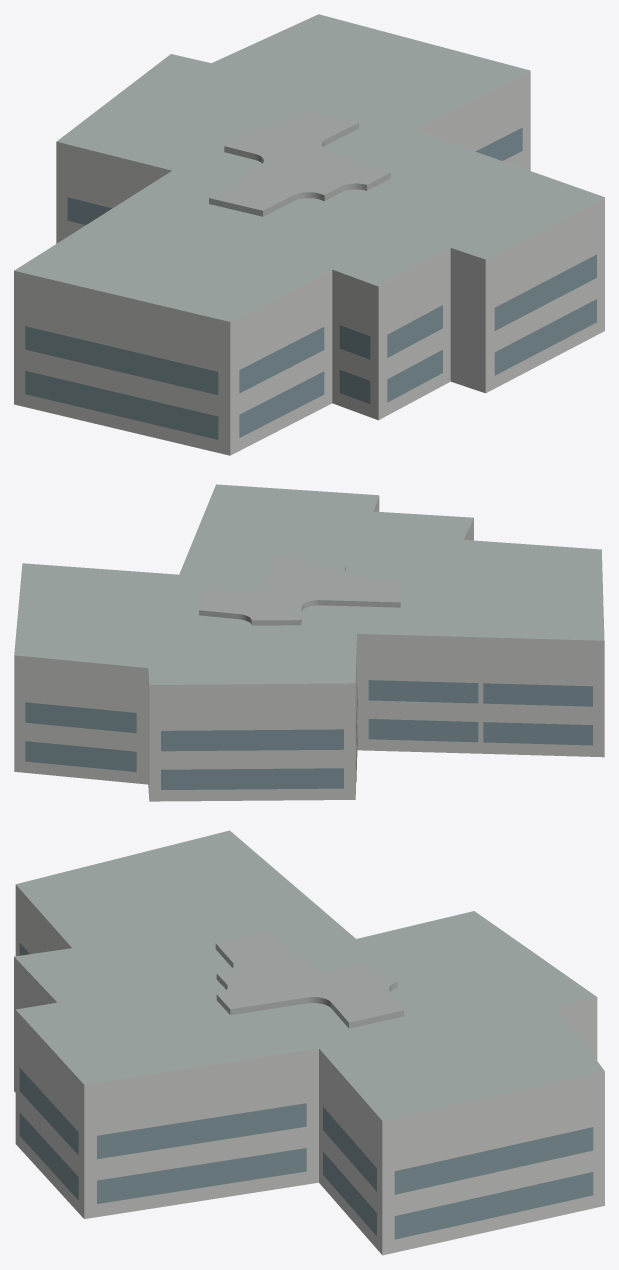
Rendered from named-apt-98614175-efca-4467-81b9-aaf47de7c2ea.glb.
3 renders of one model, top to bottom at view 1: azimuth 30°, elevation 25°; view 2: azimuth 150°, elevation 25°; view 3: azimuth 270°, elevation 25°, orthographic. The views are drawn at different scales.
Parts seen in each view (by area): view 1: named-apt-98614175-efca-4467-81b9-aaf47de7c2ea; view 2: named-apt-98614175-efca-4467-81b9-aaf47de7c2ea; view 3: named-apt-98614175-efca-4467-81b9-aaf47de7c2ea.
Part boxes in pixels (x1,y1,x2,y2): named-apt-98614175-efca-4467-81b9-aaf47de7c2ea: (14, 14, 604, 455); named-apt-98614175-efca-4467-81b9-aaf47de7c2ea: (14, 484, 604, 801); named-apt-98614175-efca-4467-81b9-aaf47de7c2ea: (14, 830, 604, 1255).
Size of the model in its own units: 42.42 by 9.56 by 36.46.
